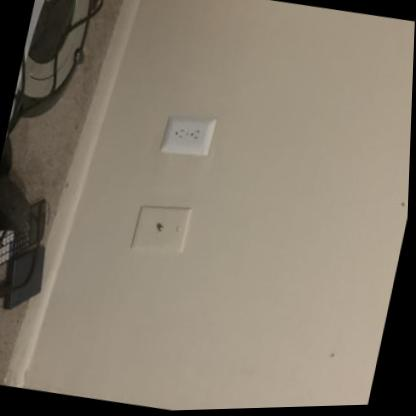OUTLET: (159, 111, 216, 160)
